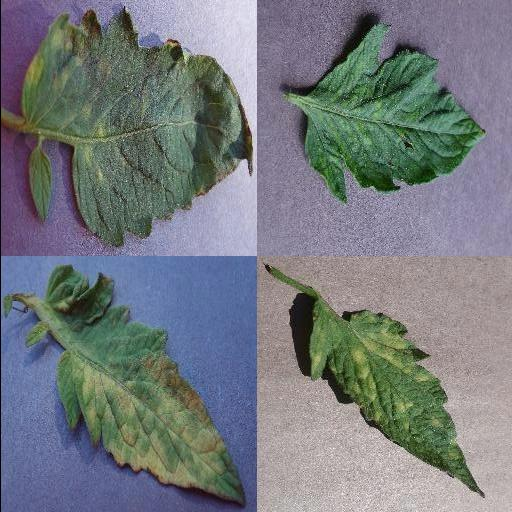Leaf Mold: (20, 8, 254, 247), (49, 265, 245, 507), (307, 295, 485, 497)
Mosaic Virus: (303, 23, 487, 205)
